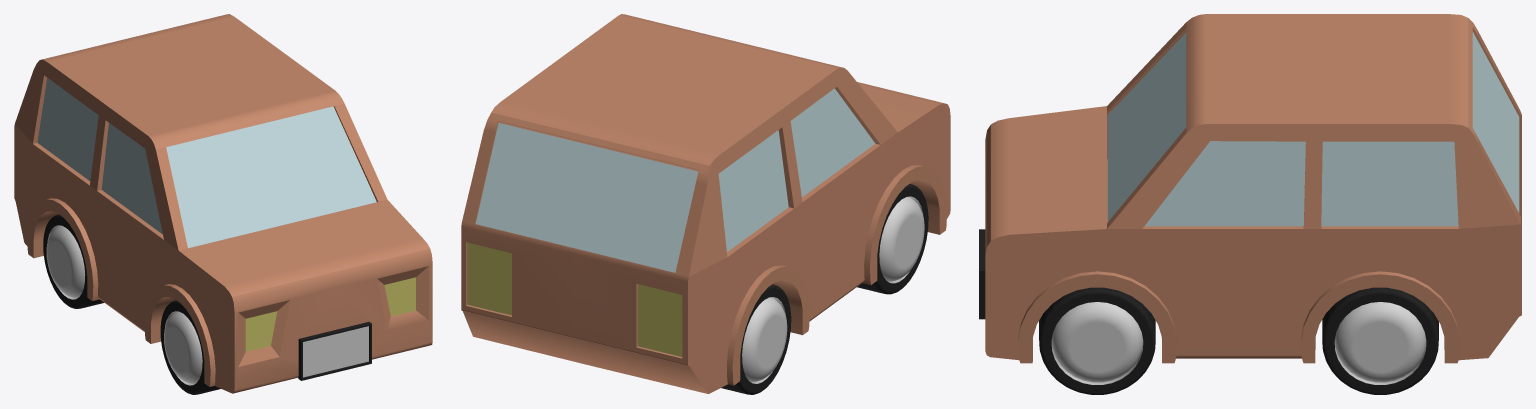
The picture shows the model from 3 angles, left to right: view 1: azimuth 30°, elevation 25°; view 2: azimuth 150°, elevation 25°; view 3: azimuth 270°, elevation 25°; orthographic projection. The views are drawn at different scales.
Parts seen in each view (by area): view 1: polySurface9, polySurface8, polySurface11; view 2: polySurface9, polySurface11, polySurface8; view 3: polySurface9, polySurface7, polySurface10.
Part boxes in pixels (x1,y1,x2,y2): polySurface9: (14,14,432,393); polySurface8: (43,214,104,308); polySurface11: (160,300,220,394); polySurface9: (461,14,950,393); polySurface11: (857,184,928,294); polySurface8: (721,284,791,394); polySurface9: (979,14,1521,363); polySurface7: (1322,287,1438,394); polySurface10: (1039,287,1155,394).
Size of the model in its own units: 4.24 by 4.05 by 7.49.
